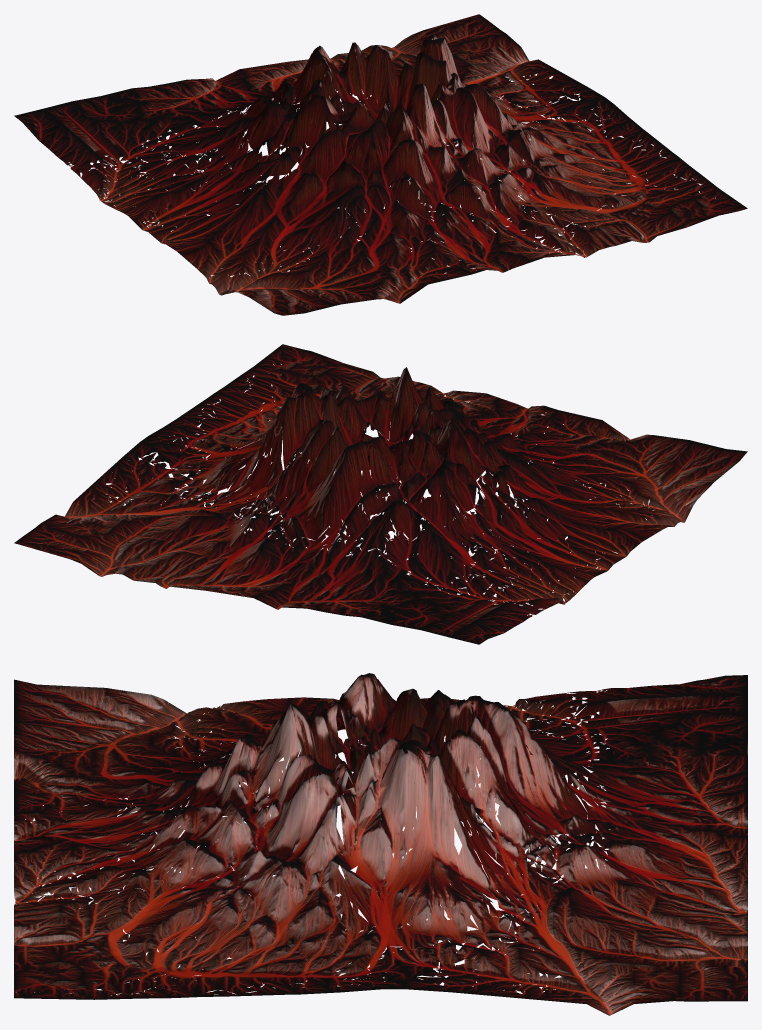
File: Muspelheim_Volcano.glb
3 renders of one model, top to bottom at view 1: azimuth 30°, elevation 25°; view 2: azimuth 150°, elevation 25°; view 3: azimuth 270°, elevation 25°, orthographic. The views are drawn at different scales.
Parts seen in each view (by area): view 1: Object_5, Object_4, Object_2, Object_3, Object_6, Object_7; view 2: Object_2, Object_5, Object_4, Object_3, Object_6, Object_7; view 3: Object_2, Object_3, Object_5, Object_6, Object_4, Object_7.
Boxes of the visible parts, x1,y1,x2,y2 form: Object_5: (101, 93, 737, 315); Object_4: (98, 83, 718, 281); Object_2: (14, 14, 747, 227); Object_3: (69, 43, 668, 256); Object_6: (240, 34, 579, 175); Object_7: (88, 36, 620, 229); Object_2: (14, 344, 563, 644); Object_5: (173, 348, 747, 602); Object_4: (199, 362, 671, 604); Object_3: (122, 386, 545, 615); Object_6: (141, 383, 516, 541); Object_7: (103, 384, 605, 605); Object_2: (14, 675, 747, 1015); Object_3: (17, 690, 607, 994); Object_5: (14, 679, 560, 997); Object_6: (335, 673, 512, 984); Object_4: (14, 693, 559, 997); Object_7: (335, 692, 564, 995).
Size of the model in its own units: 10230 by 2623 by 10230.
Materials: 1 (1 with a texture image).
